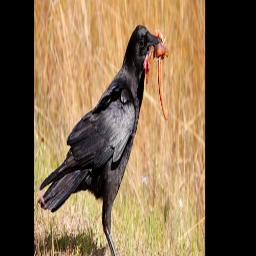Crow: (38, 17, 175, 256)
